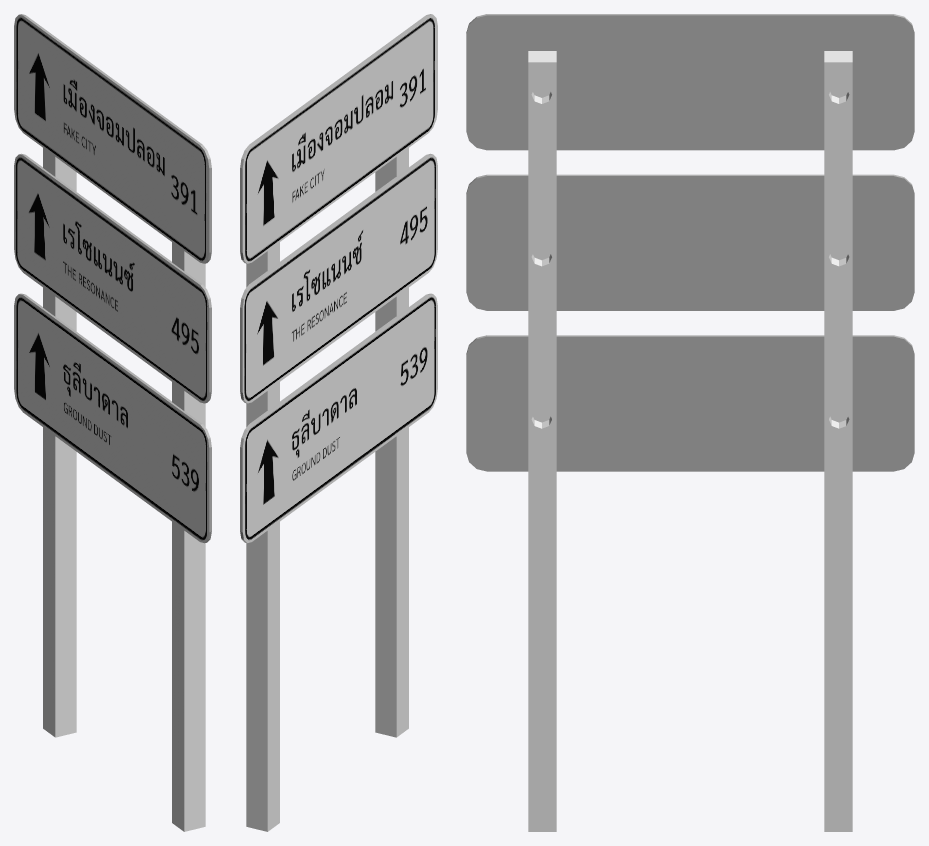
The model's file is kmToVillageSign2.glb.
The picture shows the model from 3 angles, left to right: view 1: azimuth 30°, elevation 25°; view 2: azimuth 150°, elevation 25°; view 3: azimuth 270°, elevation 25°; orthographic projection. The views are drawn at different scales.
Visible parts, largest first — view 1: Plane, Cube; view 2: Plane, Cube; view 3: Plane, Cube.
Boxes of the visible parts, x1,y1,x2,y2 form: Plane: (14,14,211,543); Cube: (43,148,205,831); Plane: (240,14,437,543); Cube: (246,148,408,831); Plane: (466,14,914,471); Cube: (528,51,852,831).
Size of the model in its own units: 0.3934 by 11.28 by 5.7.
Materials: 2 (1 with a texture image).
